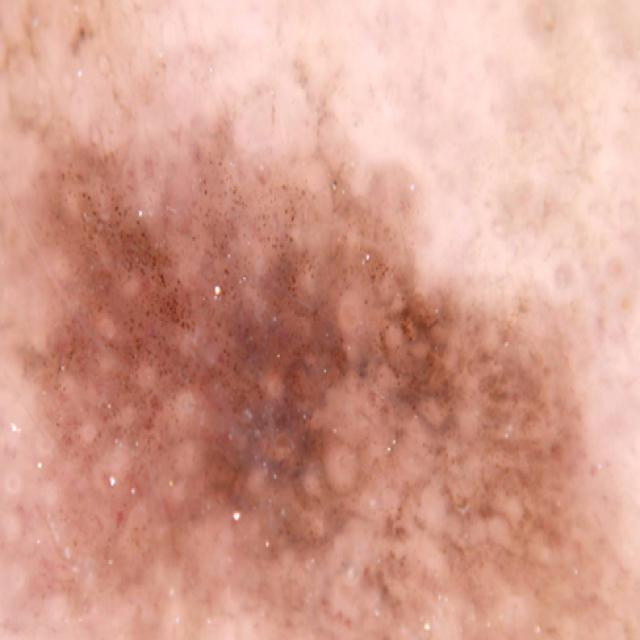Carcinoma: (13, 95, 594, 640)
